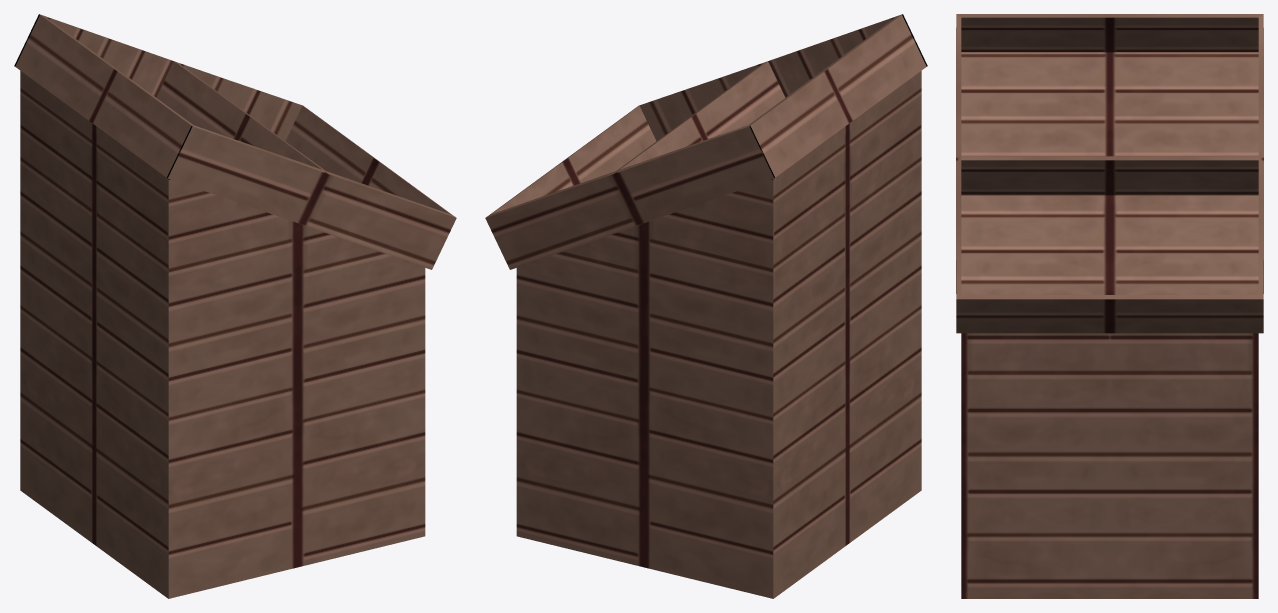
File: veggies_shelf.gltf
3 renders of one model, left to right at view 1: azimuth 30°, elevation 25°; view 2: azimuth 150°, elevation 25°; view 3: azimuth 270°, elevation 25°, orthographic.
Visible parts, largest first — view 1: VegShelf; view 2: VegShelf; view 3: VegShelf.
Part boxes in pixels (x1,y1,x2,y2): VegShelf: (14, 14, 456, 598); VegShelf: (485, 14, 927, 598); VegShelf: (956, 14, 1263, 598).
Bounding box in the file's own units: 0.7497 × 1.16 × 0.6908.
Materials: 1 (1 with a texture image).
